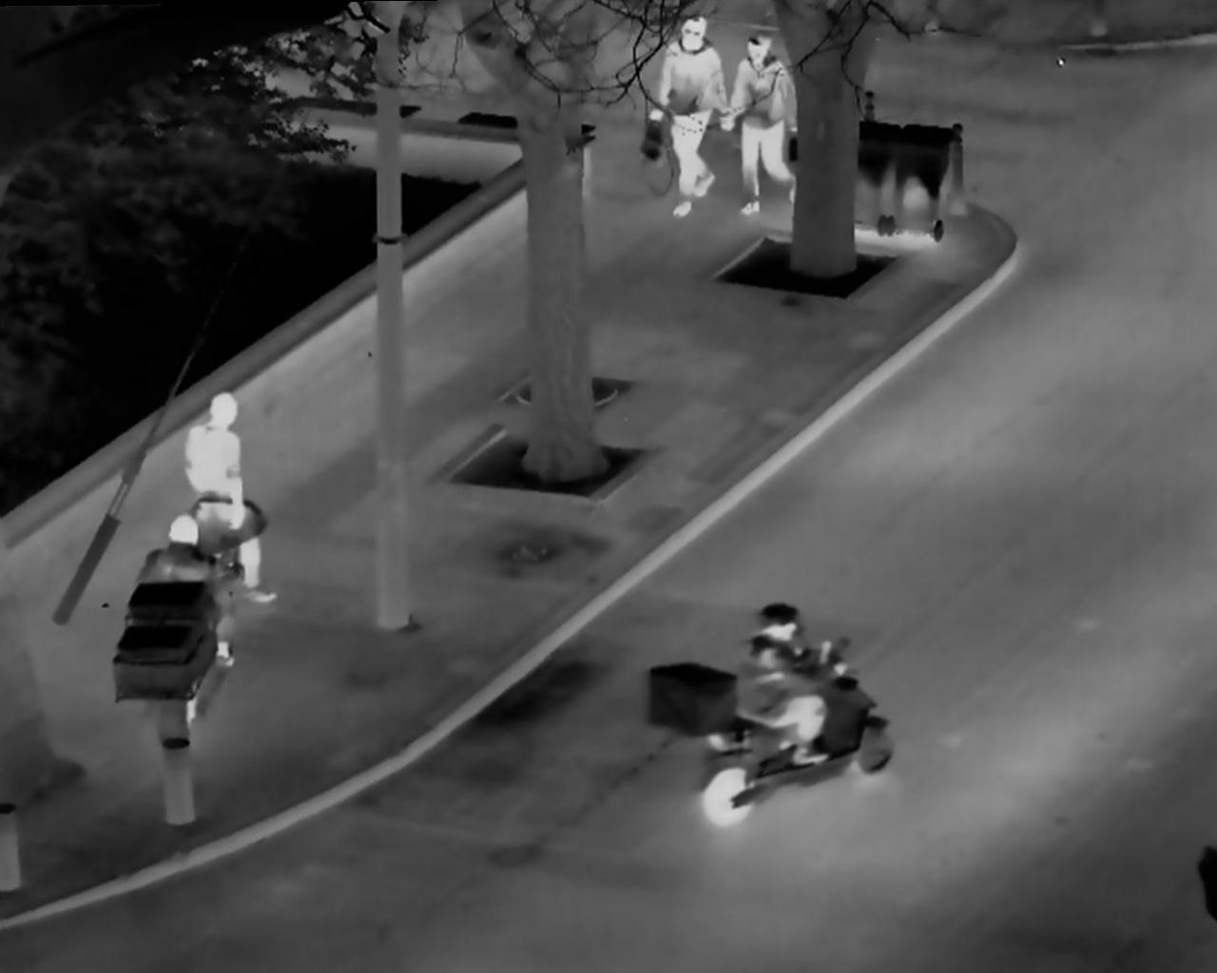person: (722, 584, 846, 787), (171, 389, 286, 601), (128, 512, 250, 707), (648, 11, 724, 218), (724, 22, 794, 216)
